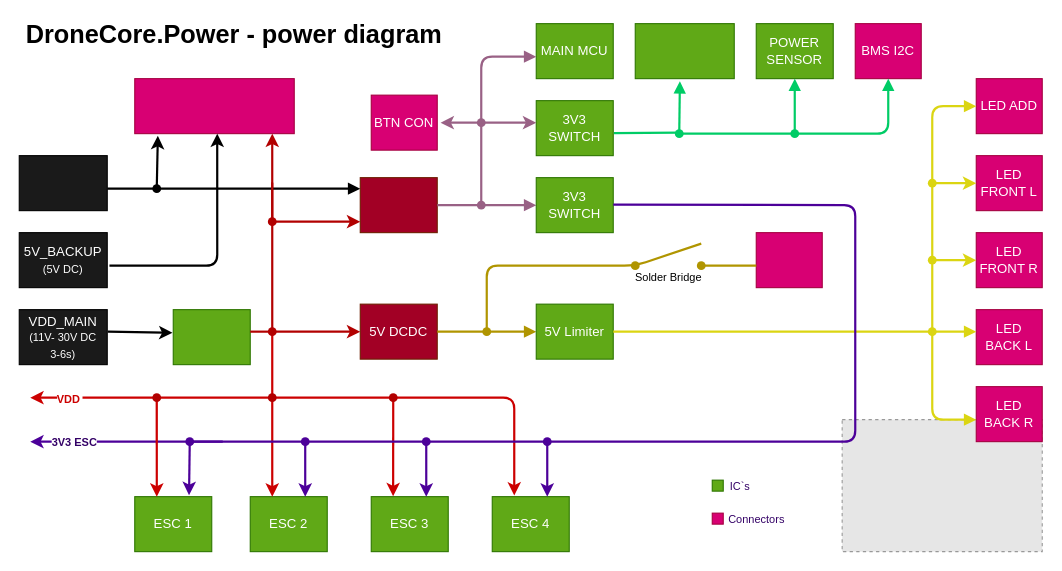
Some shapes in this 1062 by 571 pixel diagram are drawn without their labels. Grey dashed boxes stand in for pictures. Each missing label, with the centre of its shape:
"3V3 DCDC" goes at pixel 398 205.
"5V_EXTERN (5V DC)" goes at pixel 62 183.
"Board to board 80pin" goes at pixel 214 106.
"CAN TRANSCEIVER" goes at pixel 684 51.
"EXT CAN" goes at pixel 788 260.
"VDD MAIN SWITCH" goes at pixel 211 337.
